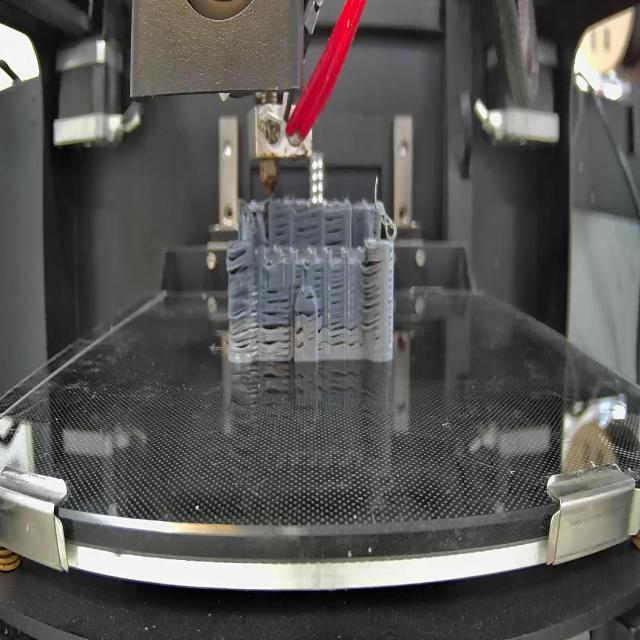cracks: (229, 289, 258, 355), (362, 257, 384, 334), (263, 310, 290, 358), (330, 318, 361, 350), (296, 210, 319, 247), (325, 208, 346, 248), (228, 246, 254, 277), (272, 210, 291, 244), (331, 264, 345, 310), (294, 305, 325, 321), (266, 285, 290, 305), (308, 327, 325, 353), (294, 260, 306, 292), (314, 264, 324, 297), (294, 327, 305, 351), (306, 294, 314, 303)
